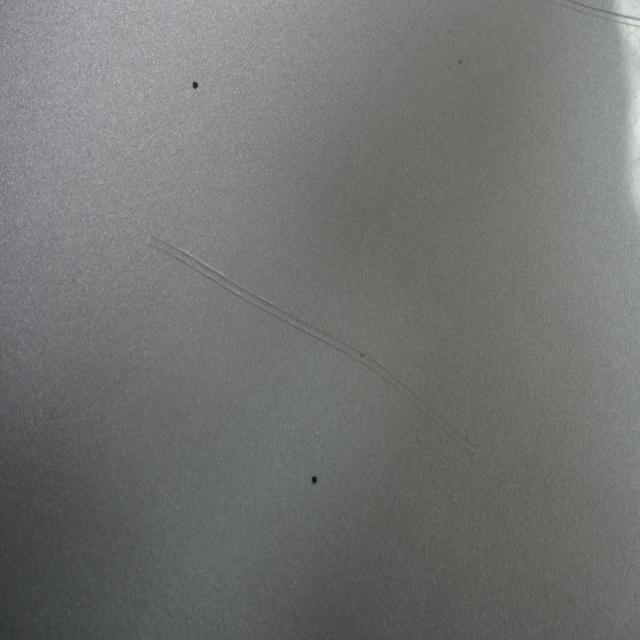dirt: (455, 55, 465, 67), (191, 79, 200, 92), (310, 473, 318, 486)
scratch: (142, 227, 485, 459), (553, 0, 640, 32)
